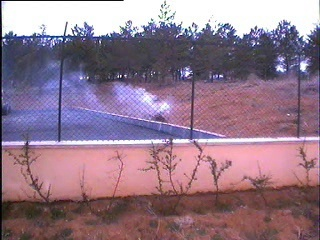smoke: (107, 77, 176, 122)
